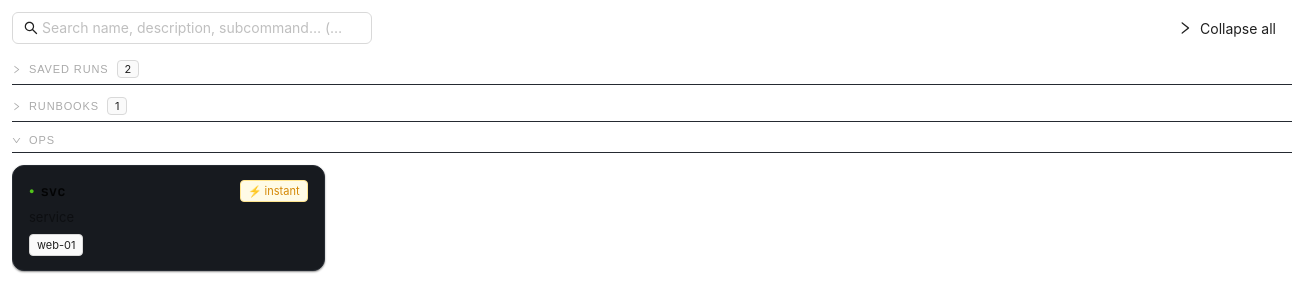
Test case: Forms → collapsible sections › the count follows the search while collapsed
In the field with placeholder "Search name, description, subcommand… (host:web group:prod)": (193, 28) [42,17,344,39], type "restart"
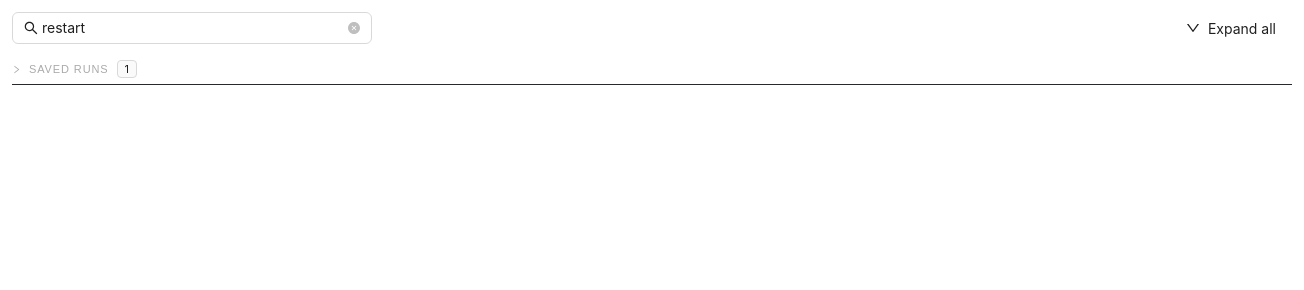
Result: the button "Saved runs 1" is shown at [12,60,1292,85]
